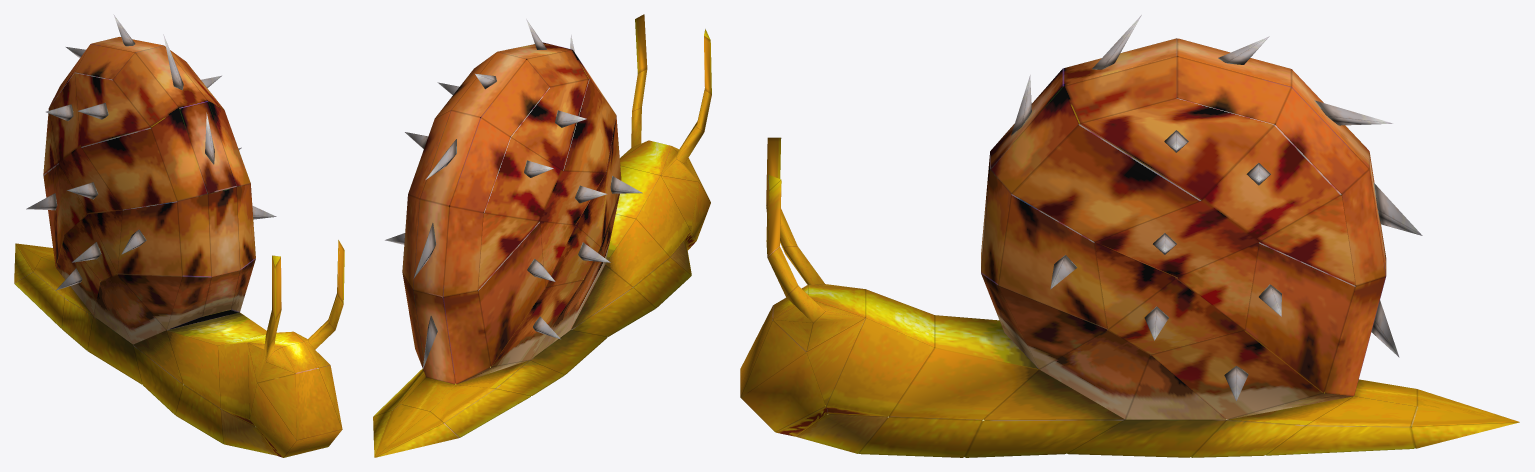
3 views of the same model, side by side, from view 1: azimuth 30°, elevation 25°; view 2: azimuth 150°, elevation 25°; view 3: azimuth 270°, elevation 25° (orthographic). The views are drawn at different scales.
Parts seen in each view (by area): view 1: T1L2M005_3; view 2: T1L2M005_3; view 3: T1L2M005_3.
Boxes of the visible parts, x1,y1,x2,y2 form: T1L2M005_3: (14, 14, 344, 457); T1L2M005_3: (373, 14, 711, 457); T1L2M005_3: (740, 15, 1519, 457).
Size of the model in its own units: 0.8838 by 1.53 by 2.64.
